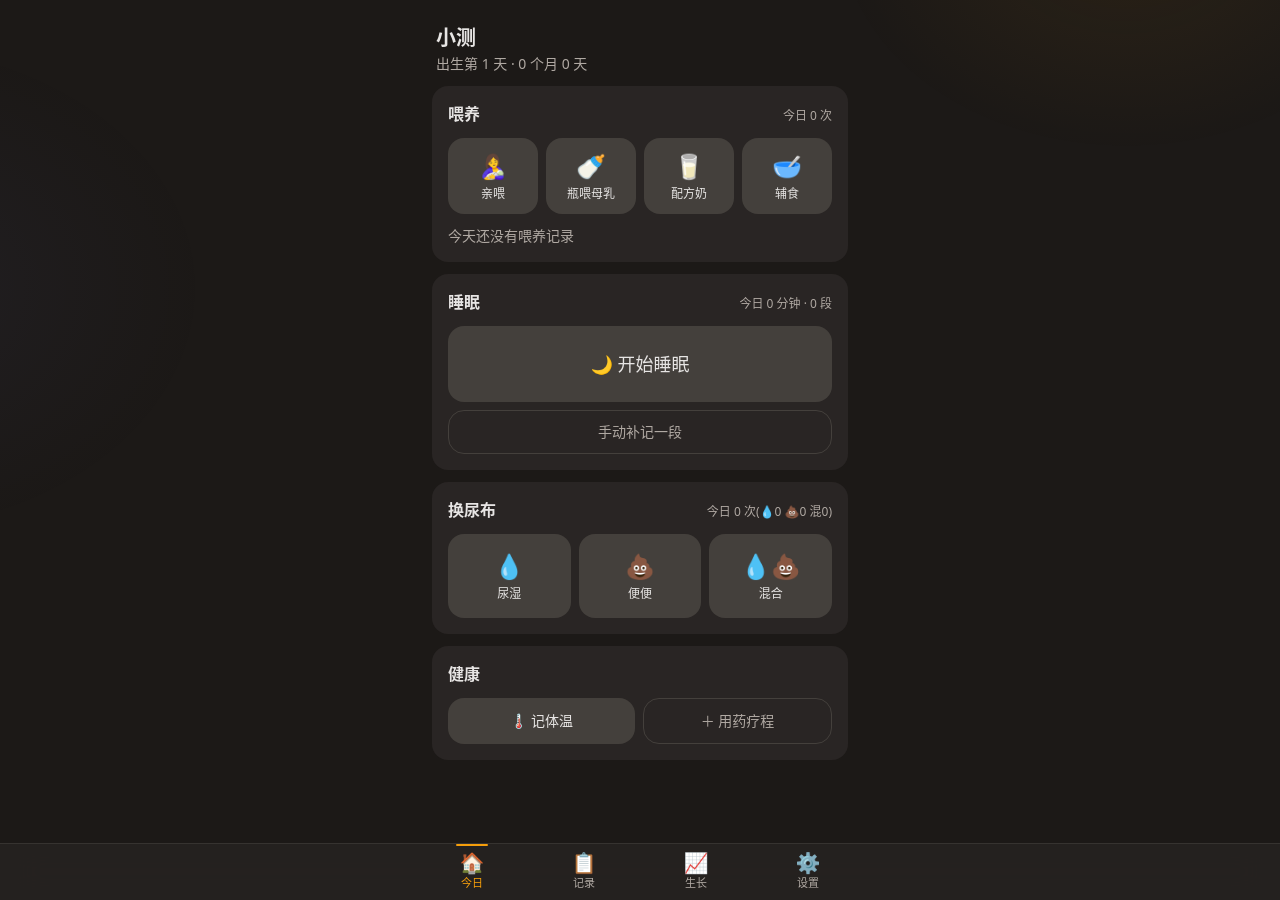
App 冒烟 › 喂养弹层:点类型 → 保存,默认 120ml 与当前时间
Expected: the heading "小测" is shown, [436,24,476,51]
Click the text "配方奶": (689, 194) [671,186,707,202]
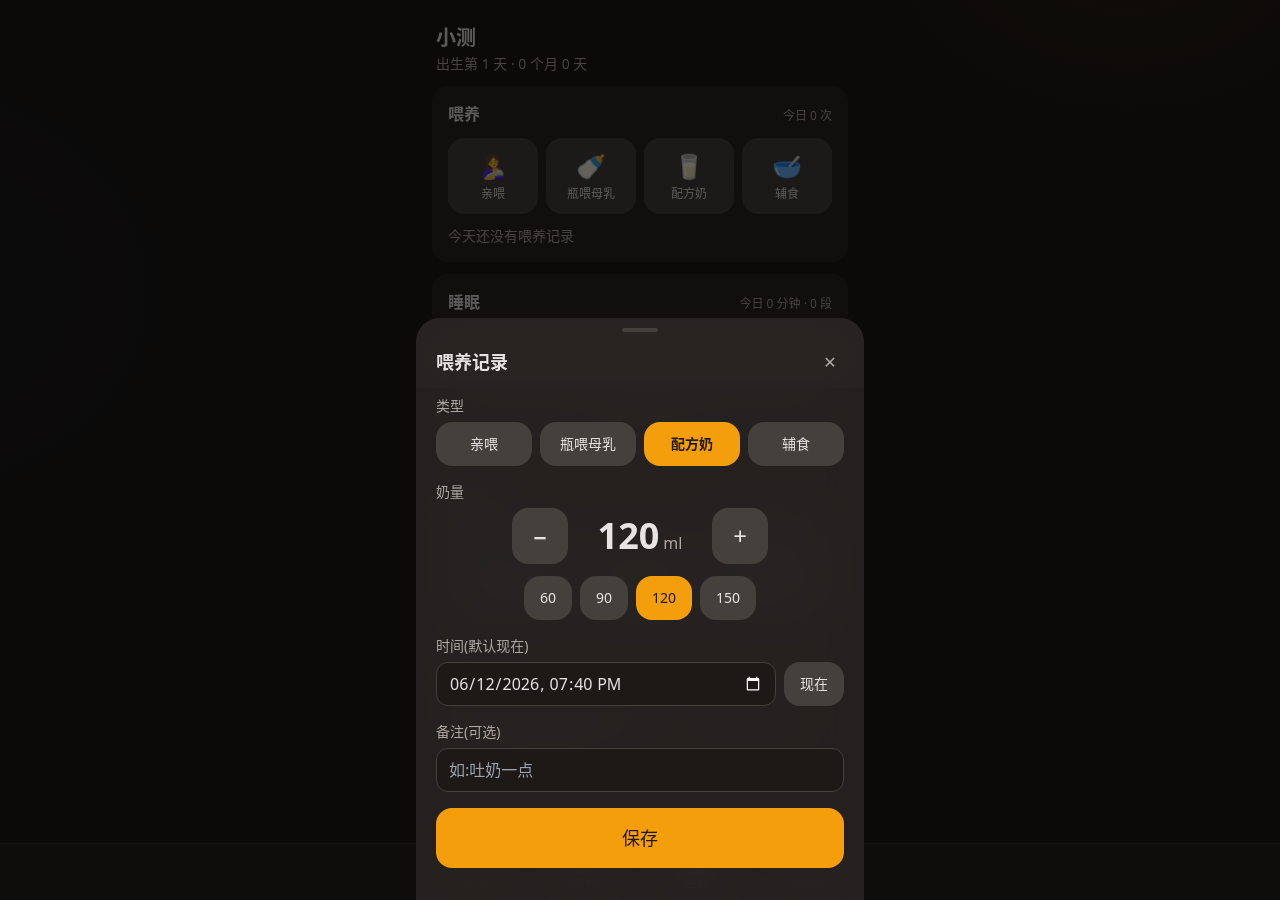
Expected: the heading "喂养记录" is shown, [436,348,508,376]
Click the button "保存": (640, 838) [436,808,844,868]
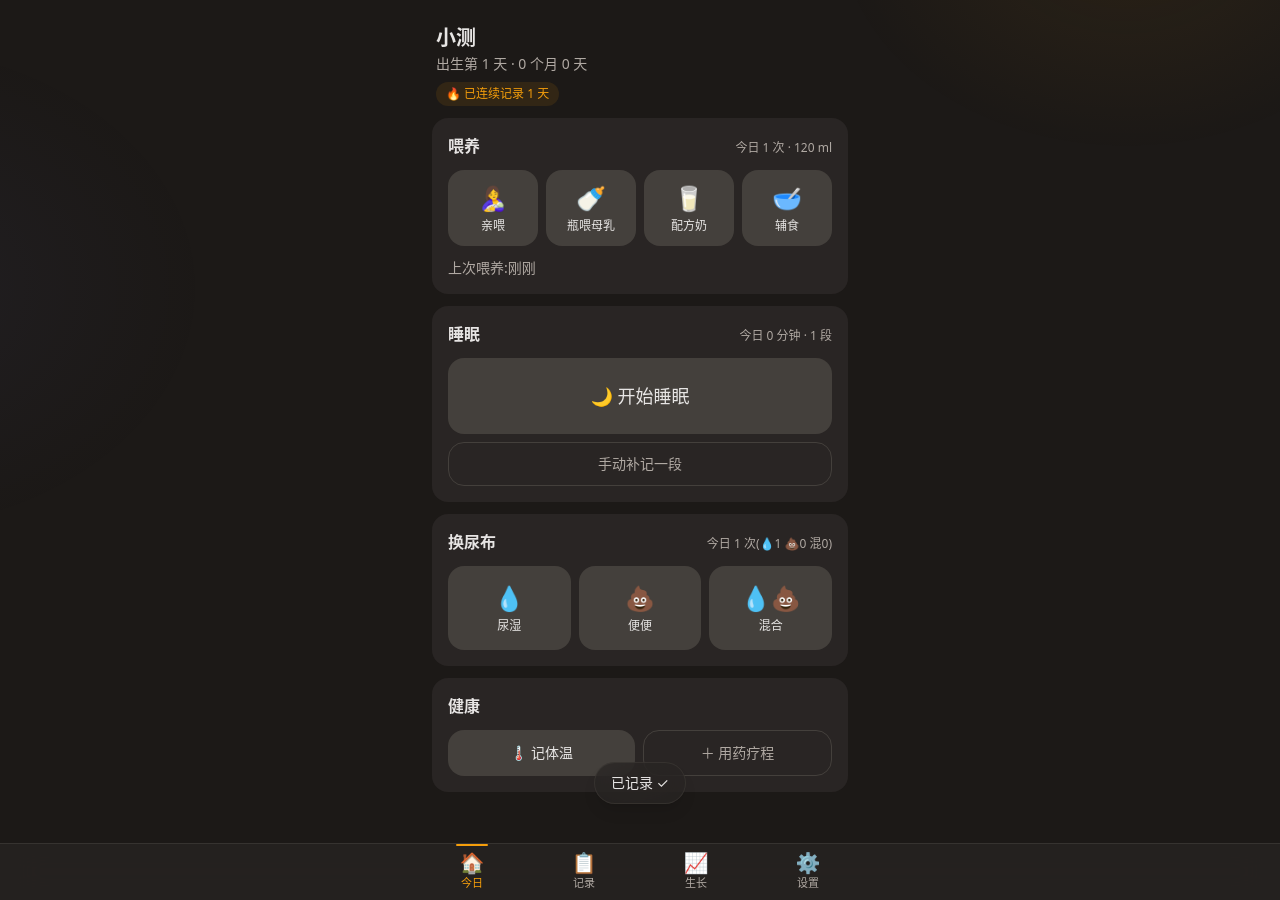
Expected: the text "喂养记录" is gone
Expected: the text "今日 1 次 · 120 ml" is shown, [735,140,832,156]
Expected: the text "上次喂养:刚刚" is shown, [448,258,536,277]
